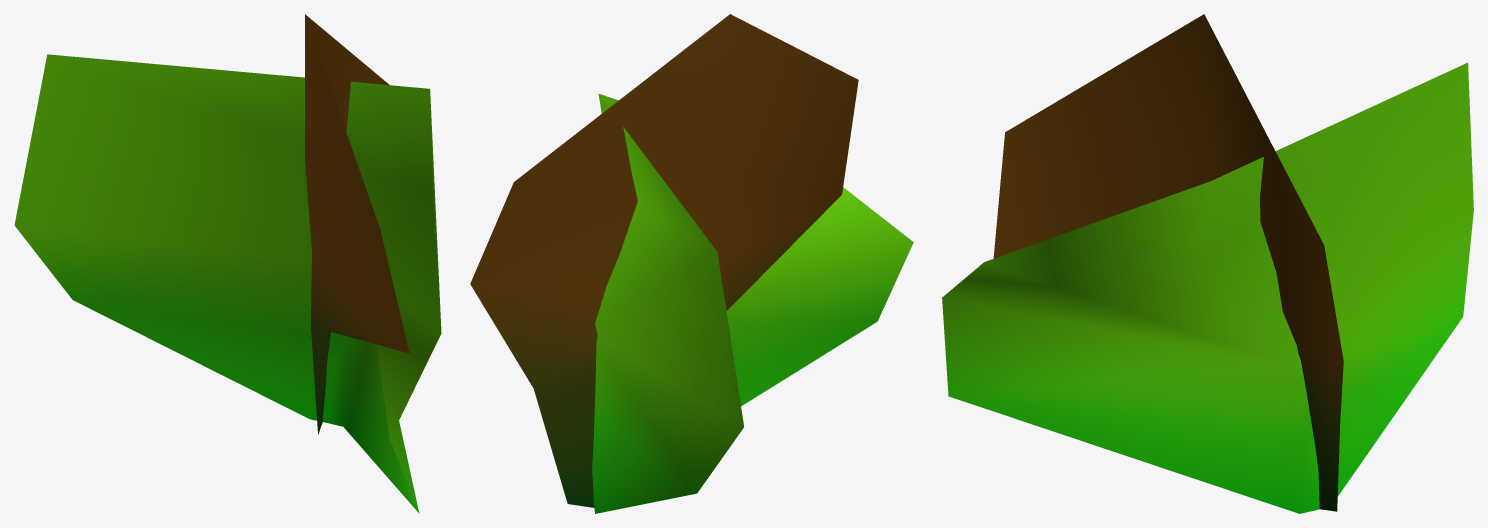
File: Var1Hi57.fbx
The picture shows the model from 3 angles, left to right: view 1: azimuth 30°, elevation 25°; view 2: azimuth 150°, elevation 25°; view 3: azimuth 270°, elevation 25°; orthographic projection. The views are drawn at different scales.
Visible parts, largest first — view 1: bend1; view 2: bend1; view 3: bend1.
Part boxes in pixels (x1,y1,x2,y2): bend1: [14, 14, 441, 513]; bend1: [470, 14, 913, 513]; bend1: [942, 14, 1473, 513].
Size of the model in its own units: 1.03 by 1.37 by 1.43.
